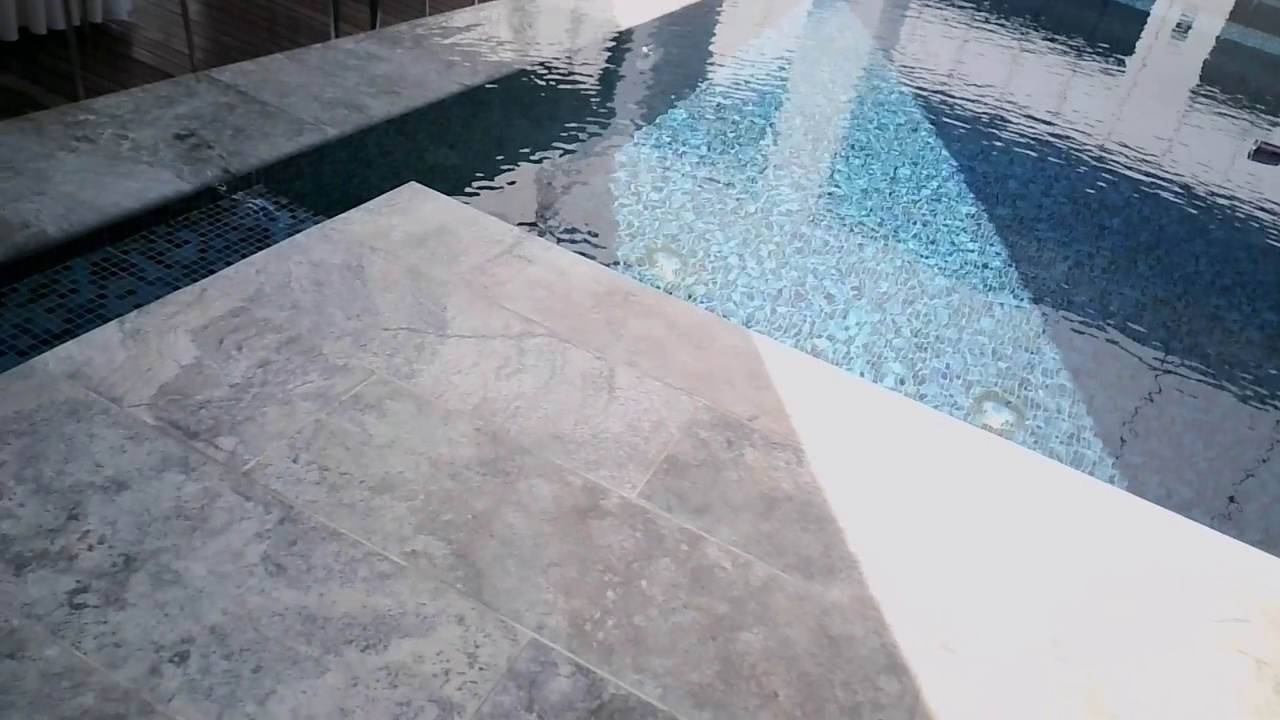debris: (1247, 131, 1279, 170)
